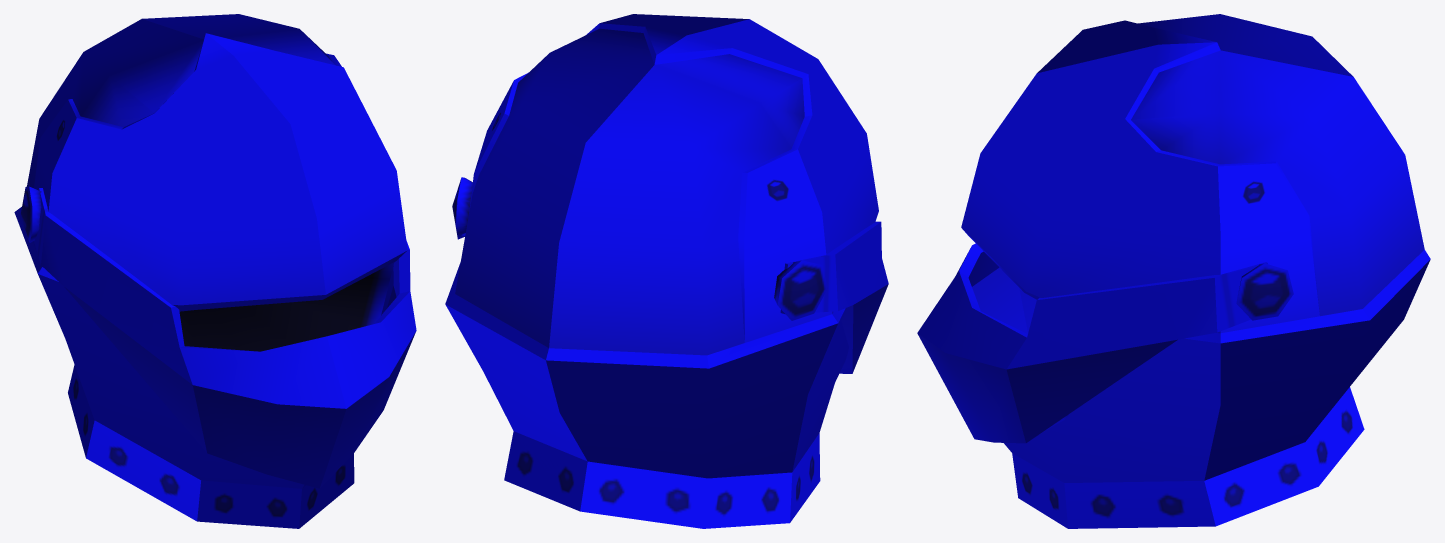
3 renders of one model, left to right at view 1: azimuth 30°, elevation 25°; view 2: azimuth 150°, elevation 25°; view 3: azimuth 270°, elevation 25°, orthographic. The views are drawn at different scales.
Parts seen in each view (by area): view 1: ArmetHelmet_F; view 2: ArmetHelmet_F; view 3: ArmetHelmet_F.
Part boxes in pixels (<box>): ArmetHelmet_F: <box>14,14,416,528</box>; ArmetHelmet_F: <box>445,14,888,528</box>; ArmetHelmet_F: <box>917,14,1430,528</box>.
Size of the model in its own units: 0.2412 by 0.2958 by 0.3021.
Materials: 1 (1 with a texture image).
